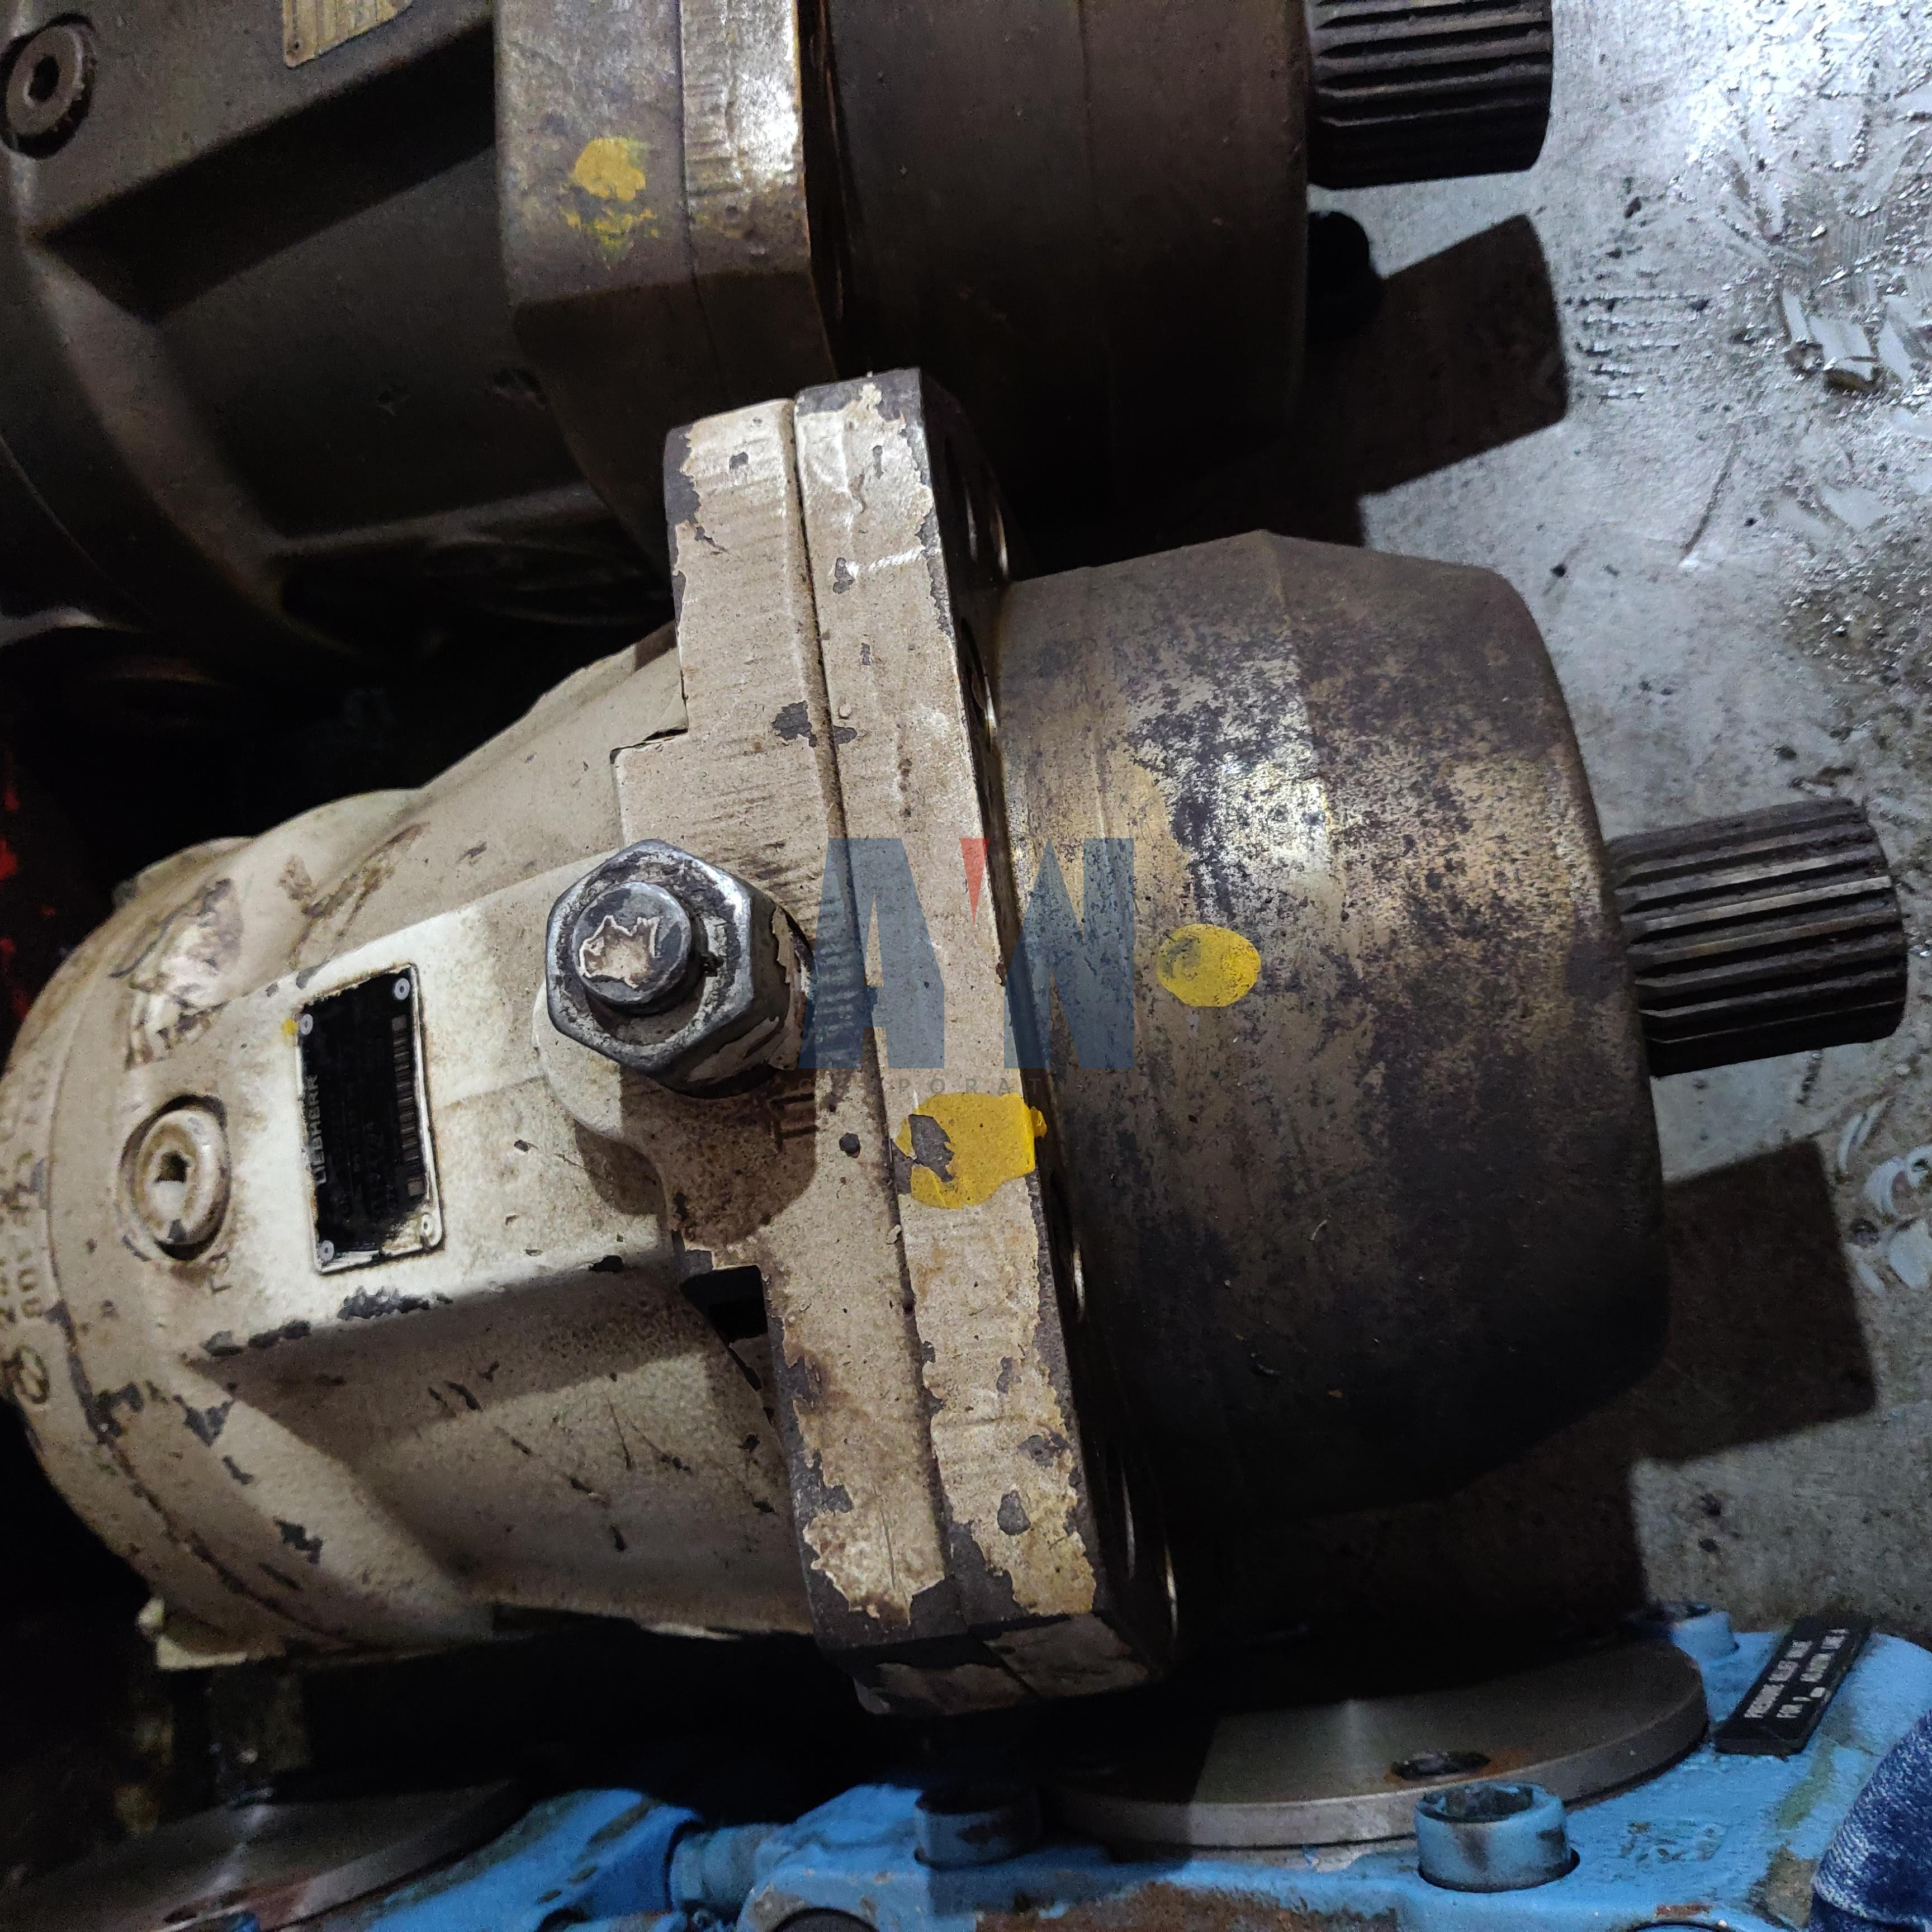bolt_b: (541, 835, 791, 1093)
